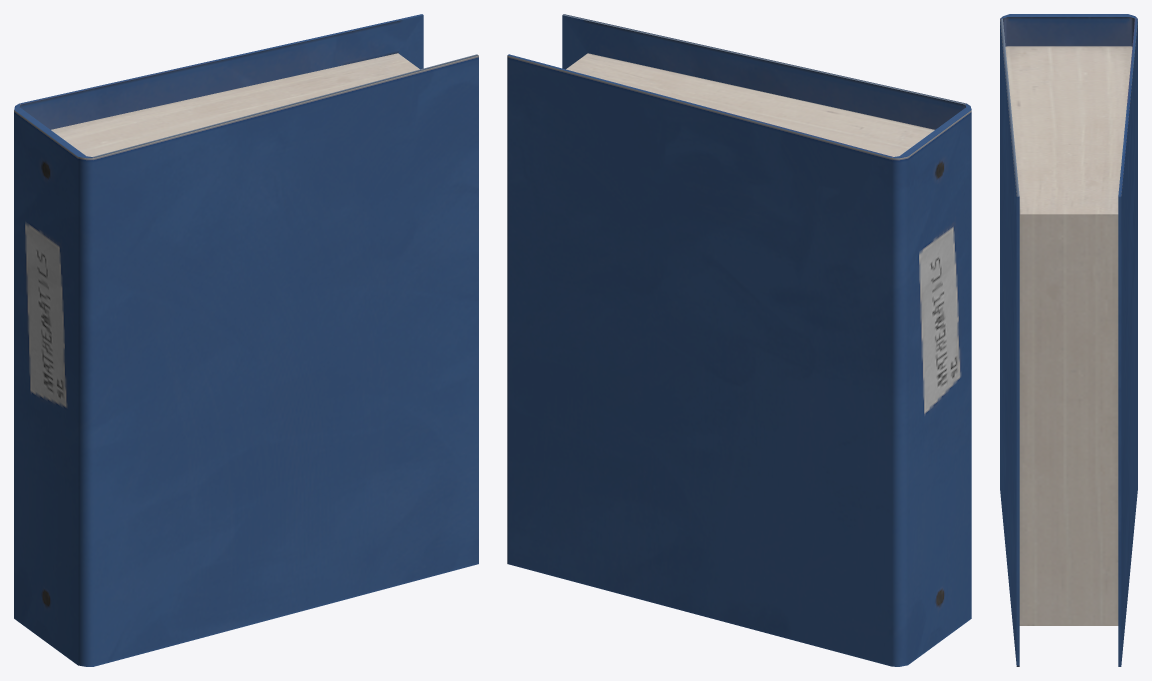
File: SM_Binder_01c.fbx
The picture shows the model from 3 angles, left to right: view 1: azimuth 30°, elevation 25°; view 2: azimuth 150°, elevation 25°; view 3: azimuth 270°, elevation 25°; orthographic projection. The views are drawn at different scales.
Visible parts, largest first — view 1: SM_Binder_01c_LOD0; view 2: SM_Binder_01c_LOD0; view 3: SM_Binder_01c_LOD0.
Boxes of the visible parts, x1,y1,x2,y2 form: SM_Binder_01c_LOD0: (14, 14, 478, 666); SM_Binder_01c_LOD0: (507, 14, 971, 666); SM_Binder_01c_LOD0: (1000, 14, 1137, 666).
Size of the model in its own units: 27.47 by 8.77 by 33.01.
Materials: 1 (1 with a texture image).
